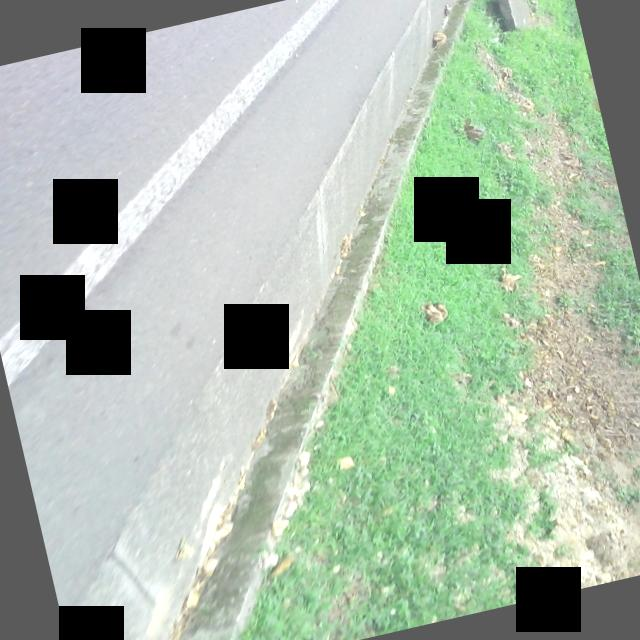DITCH: (0, 0, 624, 640), (0, 0, 623, 640), (0, 0, 591, 640)
